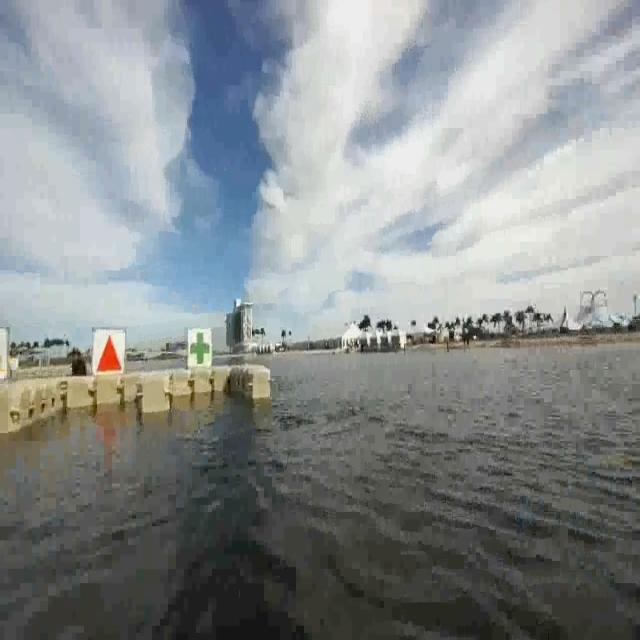blue-cross: (185, 329, 213, 372)
red-dot: (93, 327, 126, 376)
yellow-duck: (1, 331, 7, 381)
